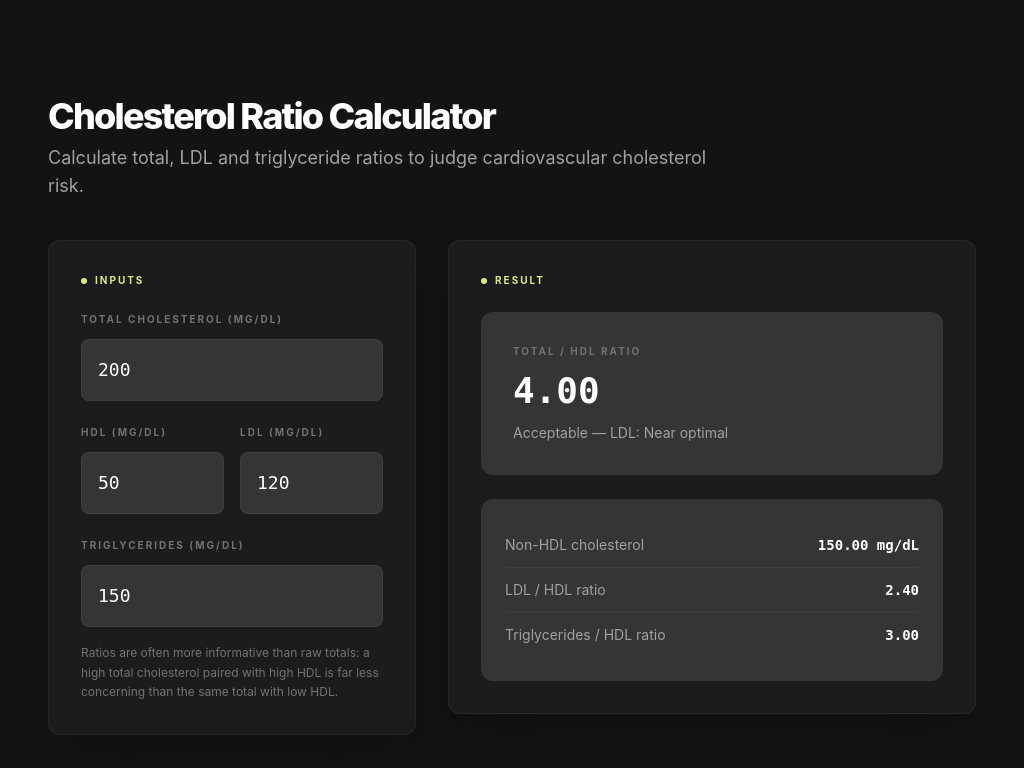
Test: CholesterolRatioCalculator › drops the ratio when HDL improves
The width and height of the screenshot is (1024, 768).
Replace the text in the number field labelled "HDL (mg/dL)" with "60". click: (152, 483)
box: x1=81 y1=452 x2=224 y2=514
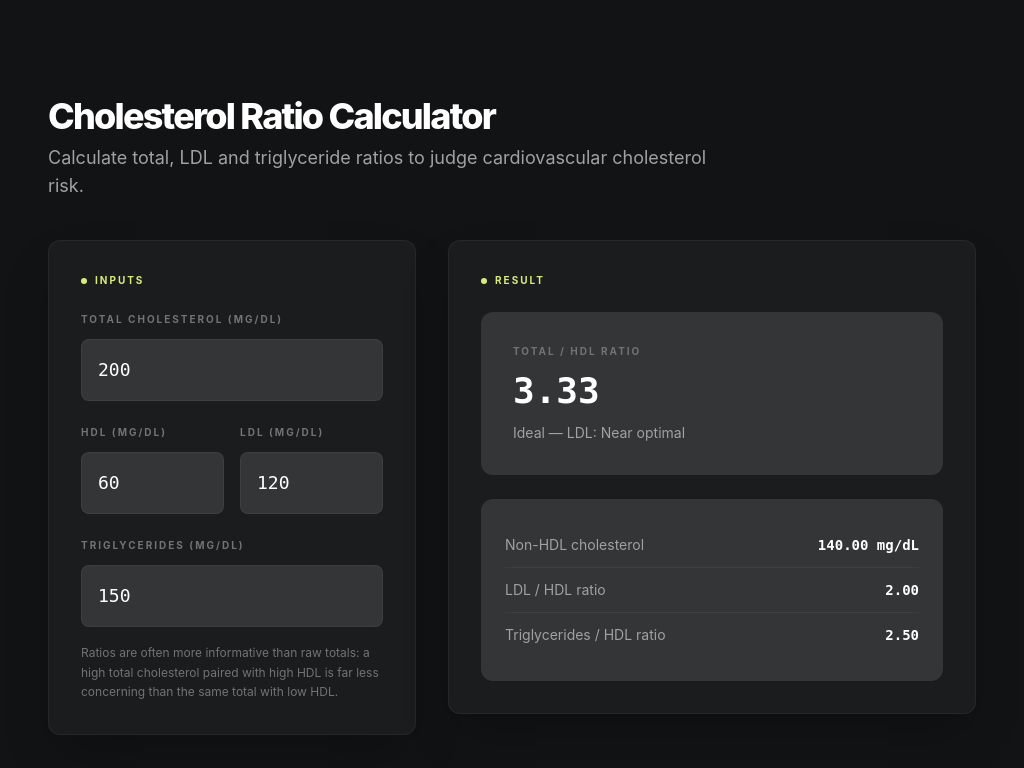
Expected: the text "3.33" is shown, x1=513 y1=370 x2=600 y2=411
Expected: the text "2.00" is shown, x1=885 y1=580 x2=919 y2=600
